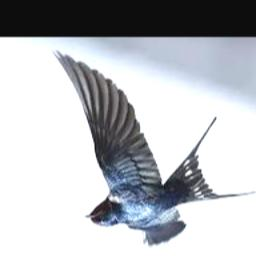Swallow: (51, 49, 256, 249)
